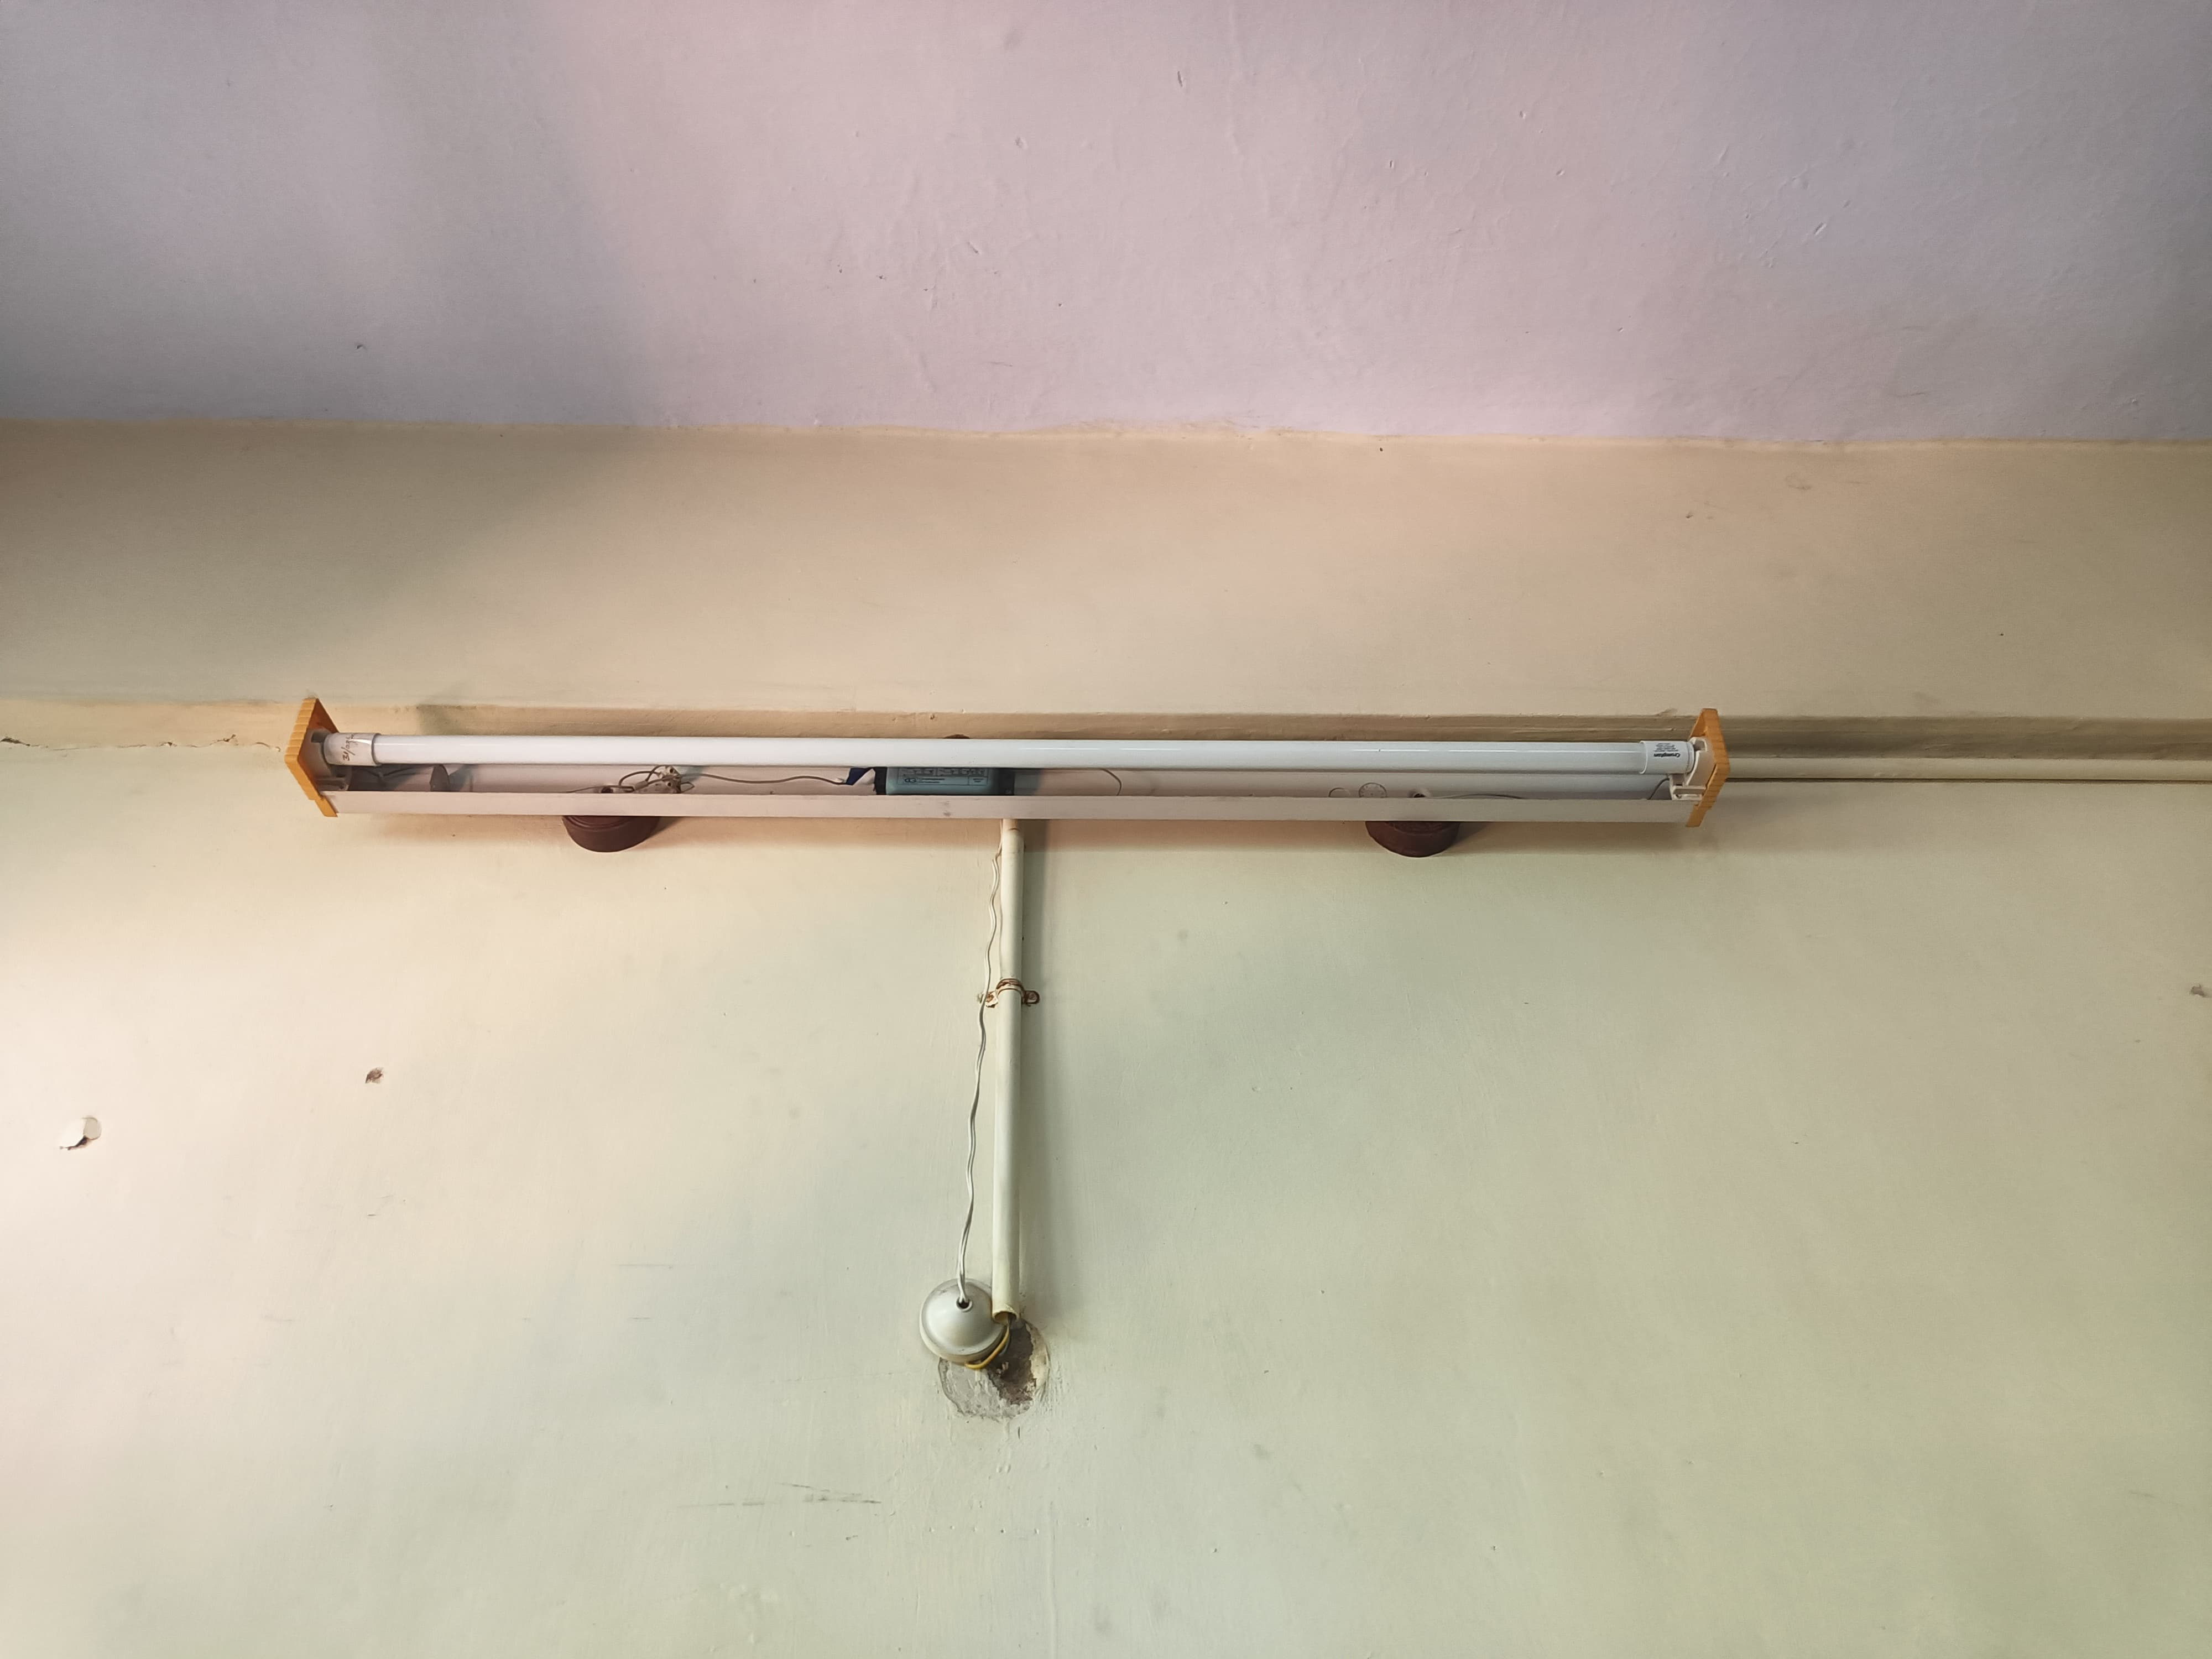TubeLight: (287, 692, 1731, 859)
